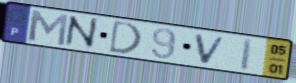9: (149, 27, 177, 61)
D: (107, 19, 144, 55)
I: (239, 37, 256, 73)
M: (27, 8, 71, 48)
N: (63, 13, 100, 50)
V: (193, 32, 229, 66)
